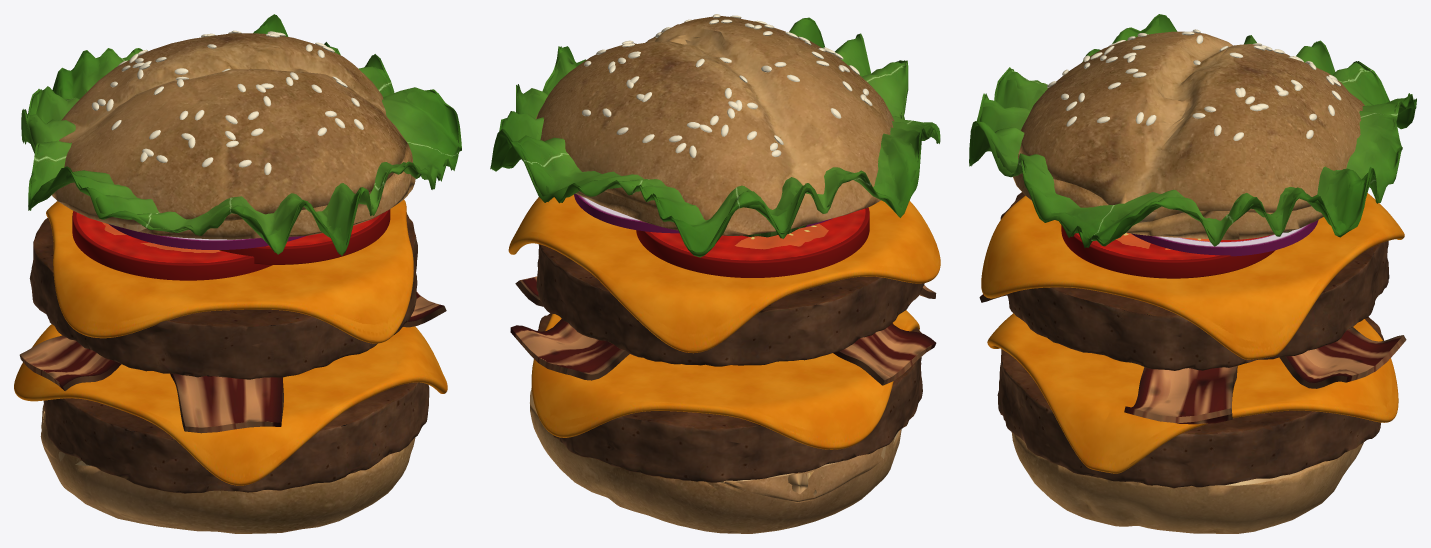
The model's file is double-burger.glb.
3 views of the same model, side by side, from view 1: azimuth 30°, elevation 25°; view 2: azimuth 150°, elevation 25°; view 3: azimuth 270°, elevation 25° (orthographic).
Visible parts, largest first — view 1: bun-top, cheese2, lettuce, cheese, patty, patty2, bun-bottom, bacon, tomato, onion; view 2: bun-top, cheese2, cheese, lettuce, patty2, patty, bun-bottom, tomato, bacon, onion; view 3: bun-top, cheese2, lettuce, cheese, patty, patty2, bun-bottom, bacon, tomato, onion.
Boxes of the visible parts, <box> form: bun-top: <box>52,30,415,239</box>; cheese2: <box>46,199,413,343</box>; lettuce: <box>21,14,461,255</box>; cheese: <box>14,324,447,485</box>; patty: <box>43,382,429,493</box>; patty2: <box>29,212,417,379</box>; bun-bottom: <box>40,404,415,533</box>; bacon: <box>19,291,446,433</box>; tomato: <box>72,209,390,280</box>; onion: <box>109,224,305,249</box>; bun-top: <box>536,14,894,235</box>; cheese2: <box>508,194,940,353</box>; cheese: <box>531,310,919,449</box>; lettuce: <box>490,17,940,257</box>; patty2: <box>536,244,924,366</box>; patty: <box>537,313,922,482</box>; bun-bottom: <box>530,388,901,533</box>; tomato: <box>636,207,869,277</box>; bacon: <box>510,276,936,385</box>; onion: <box>574,194,832,233</box>; bun-top: <box>1013,29,1364,239</box>; cheese2: <box>981,193,1404,359</box>; lettuce: <box>969,14,1416,247</box>; cheese: <box>987,313,1398,473</box>; patty: <box>997,317,1383,488</box>; patty2: <box>1000,192,1389,370</box>; bun-bottom: <box>1011,432,1363,533</box>; bacon: <box>979,294,1406,424</box>; tomato: <box>1061,225,1275,278</box>; onion: <box>1131,220,1318,256</box>.
Size of the model in its own units: 0.1296 by 0.1367 by 0.1303.
Materials: 14 (12 with a texture image).
